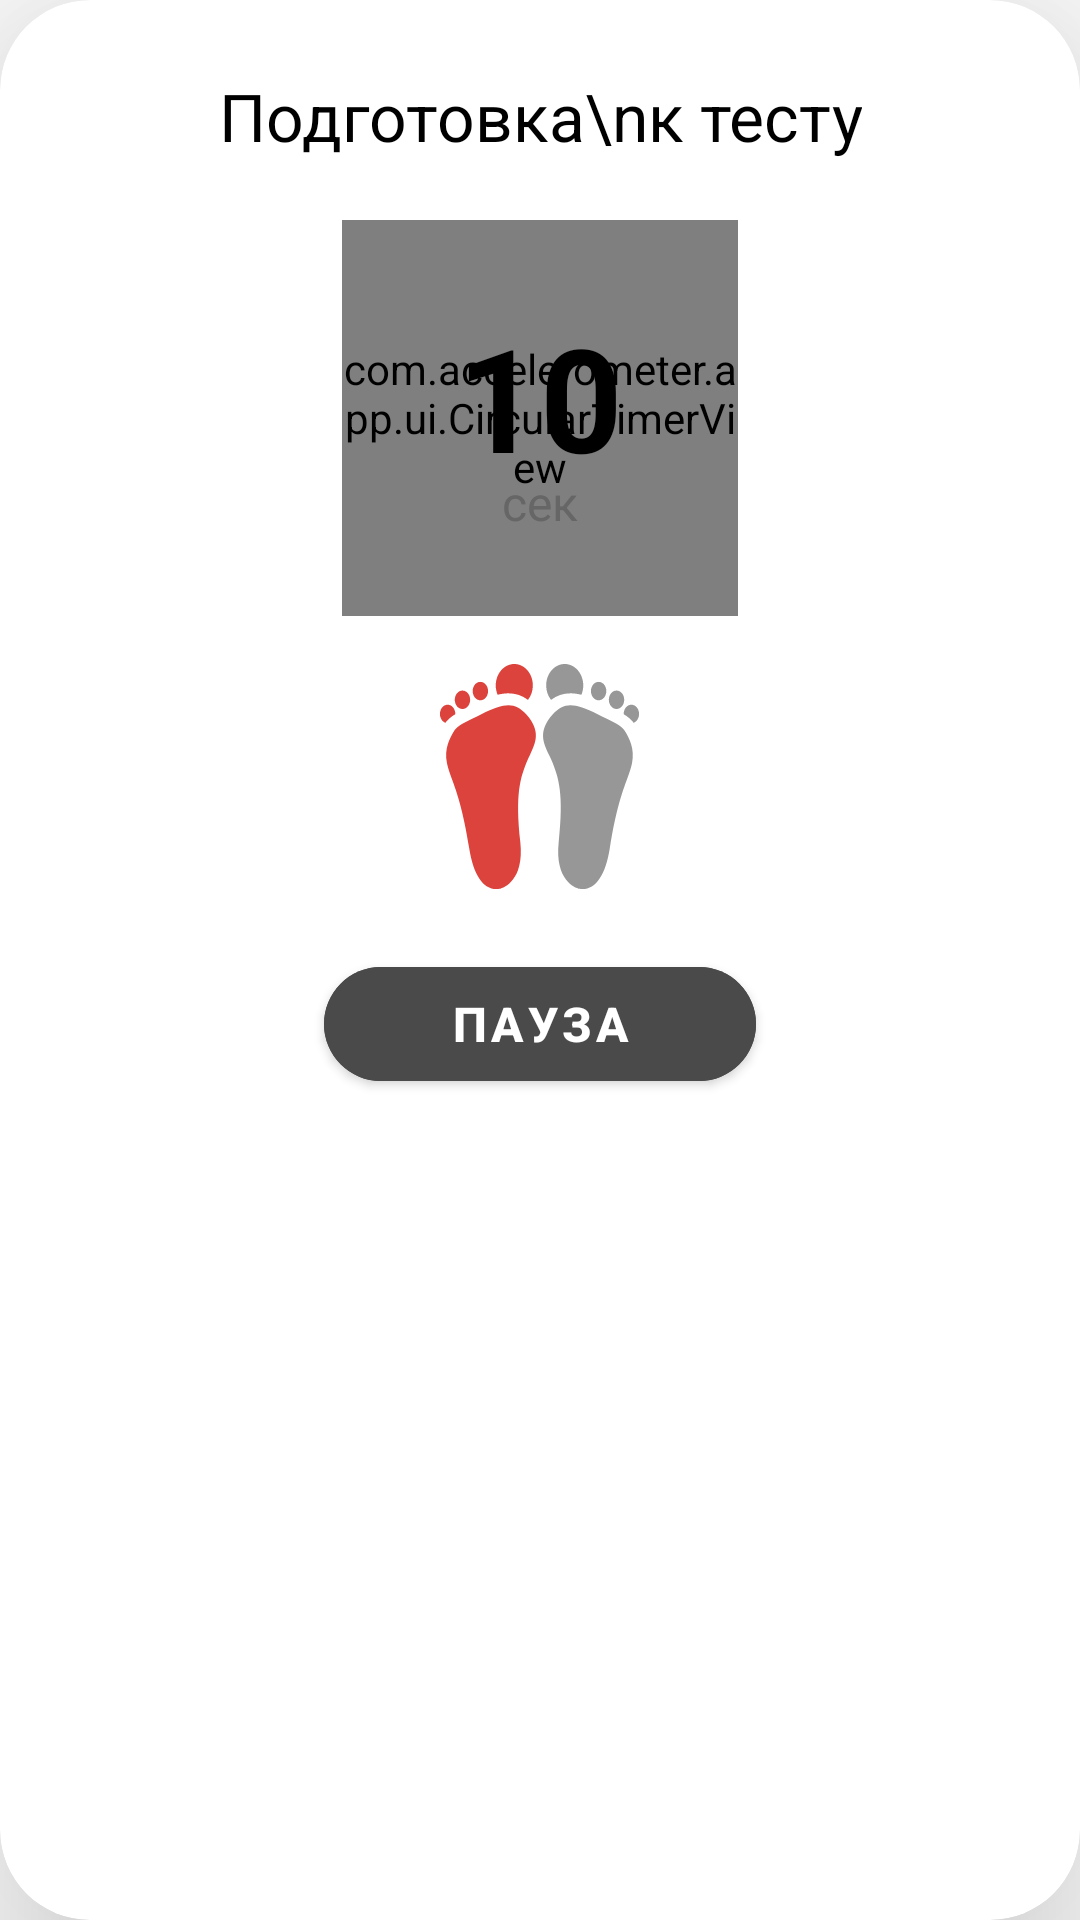

Icons on this 1080px x 1920px Android screen, each with its box as (x1, y1, x2, y2):
Ноги: (440, 664, 639, 889)
